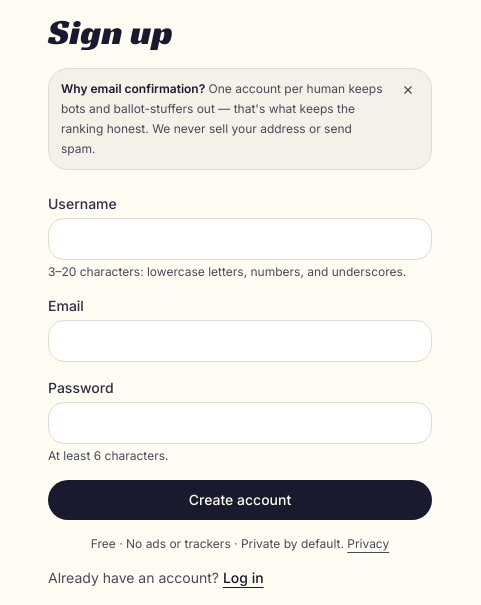
Scenario: SignupPage › shows the check-your-email panel when confirmation is required
In the field labelled "Username": (240, 239) [48,218,432,260], type "coaster_fan"
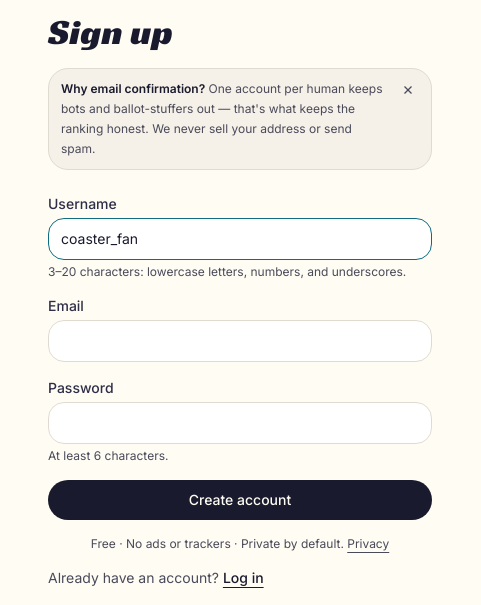
In the field labelled "Email": (240, 341) [48,320,432,362], type "a@example.com"
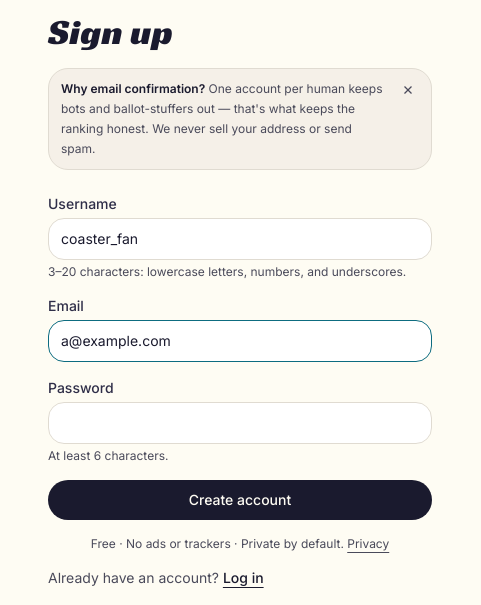
In the password field labelled "Password": (240, 423) [48,402,432,444], type "secret1"
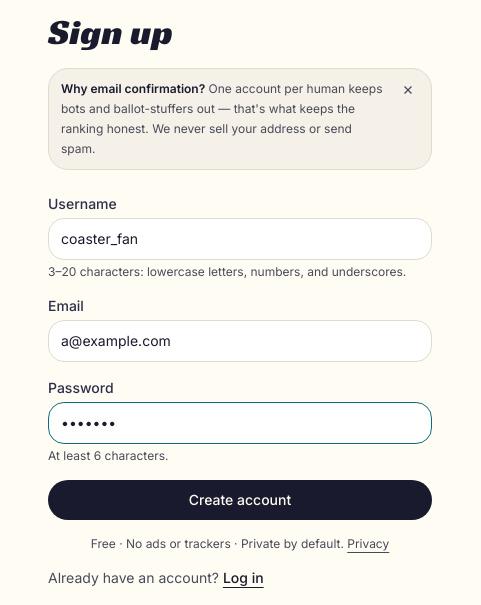
Click the button "Create account": (240, 500) [48,480,432,520]
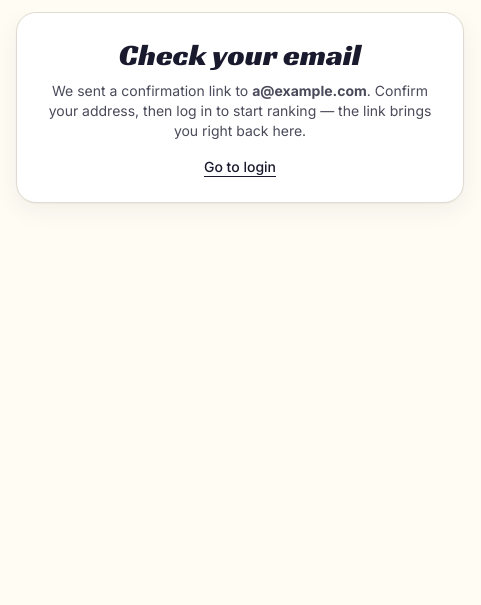
Now the heading "Check your email" is shown, box [119,36,361,74]
